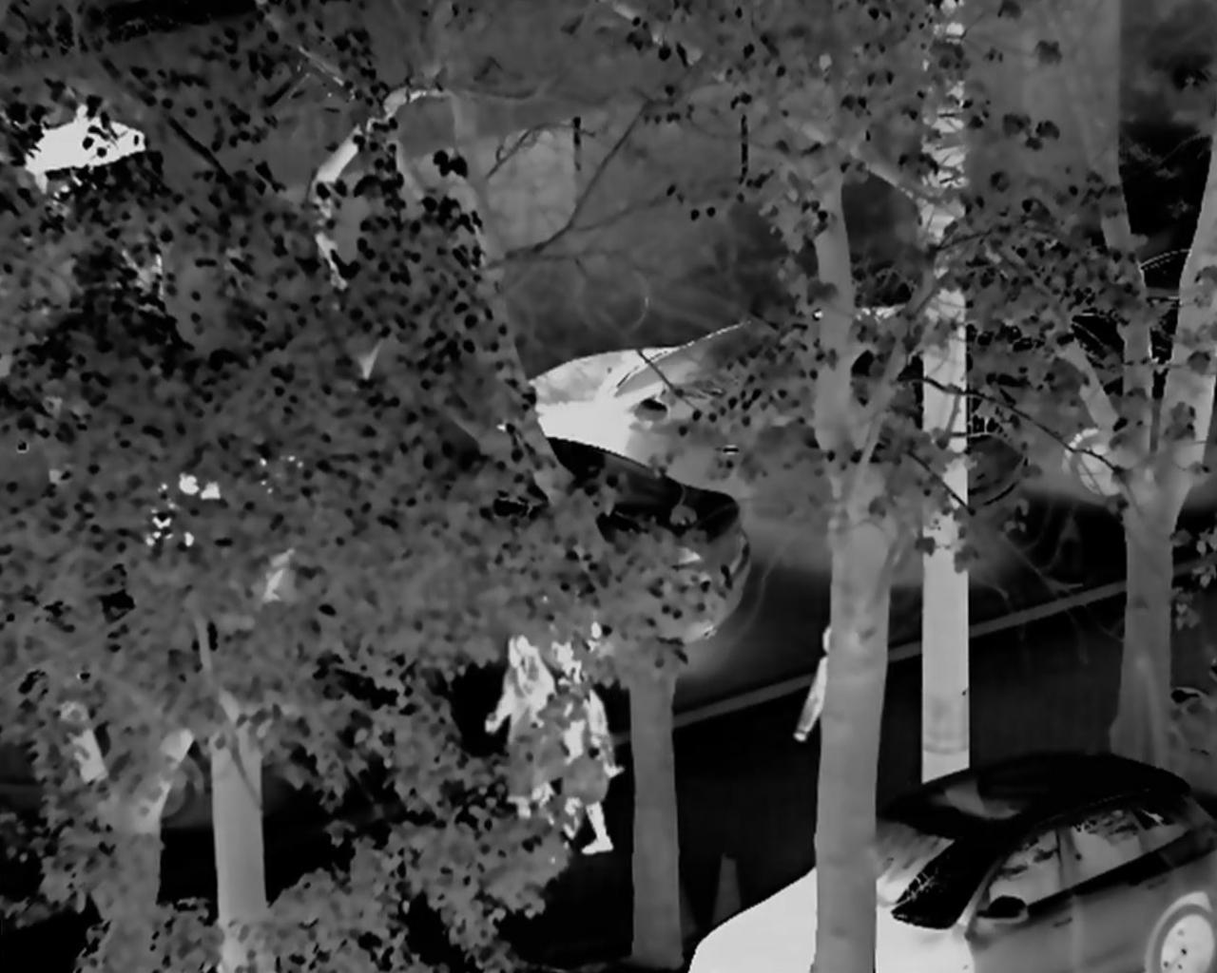person: (476, 629, 559, 862), (551, 671, 628, 865), (788, 617, 853, 804)
